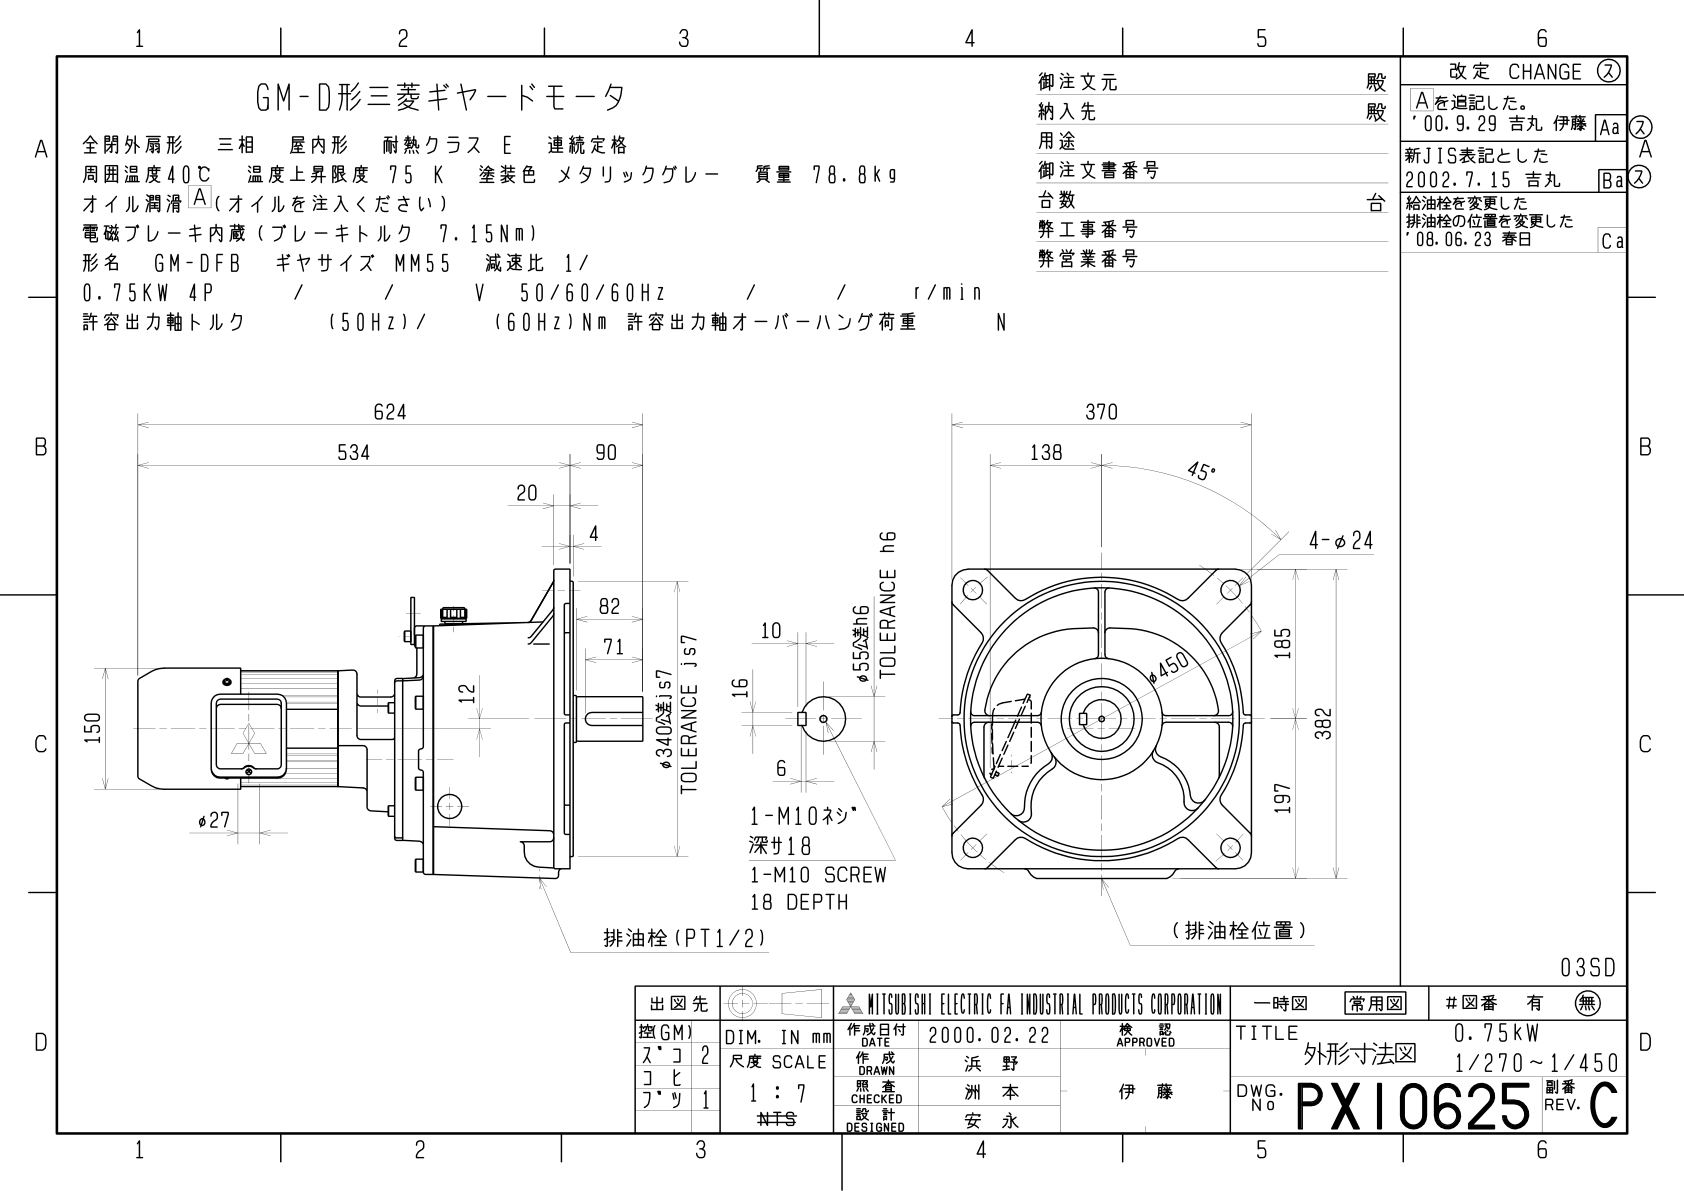GM_D_屋内＿三相_フランジ: (1, 1, 1669, 1188)
